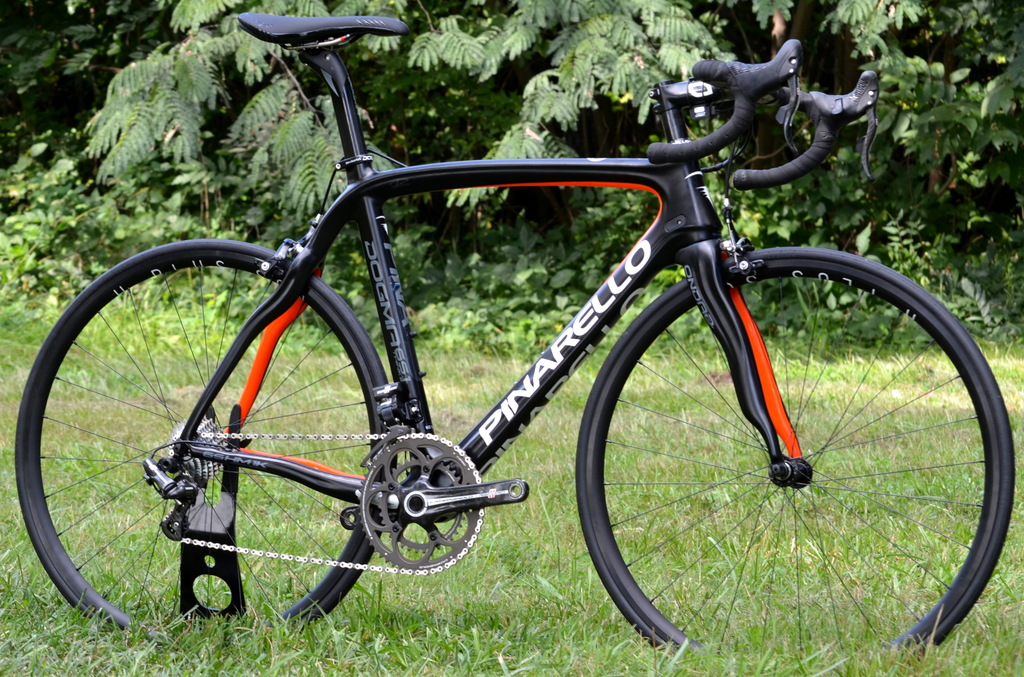Bike: (125, 103, 972, 590)
